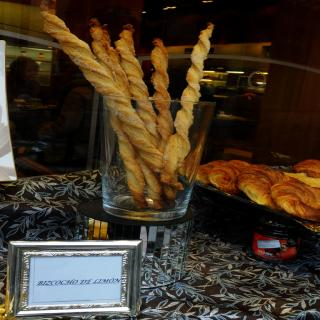Bread: (42, 12, 213, 206), (202, 159, 310, 213), (294, 157, 320, 181)
Croissant: (202, 160, 318, 215)
